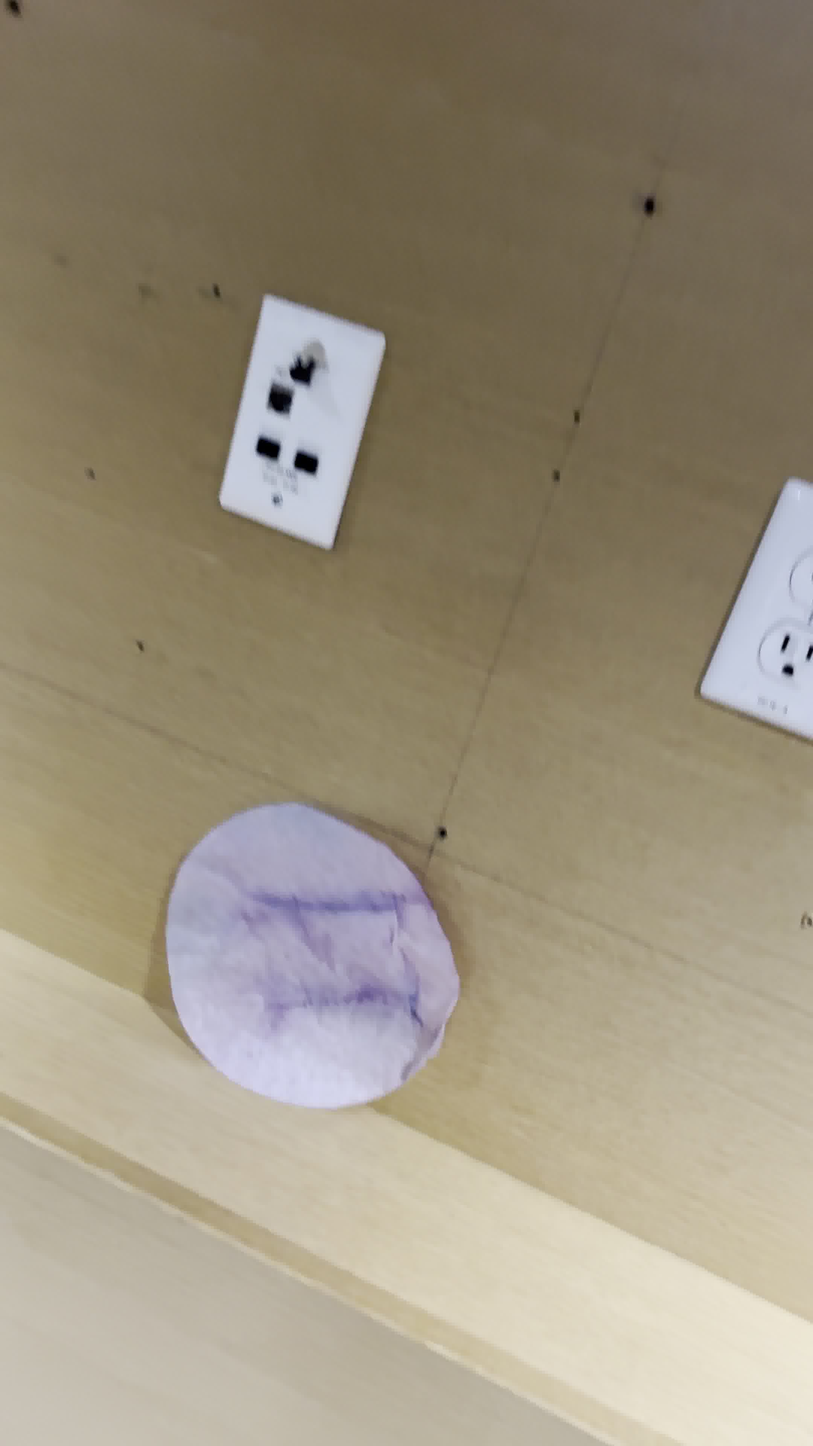Target: (164, 805, 462, 1108)
